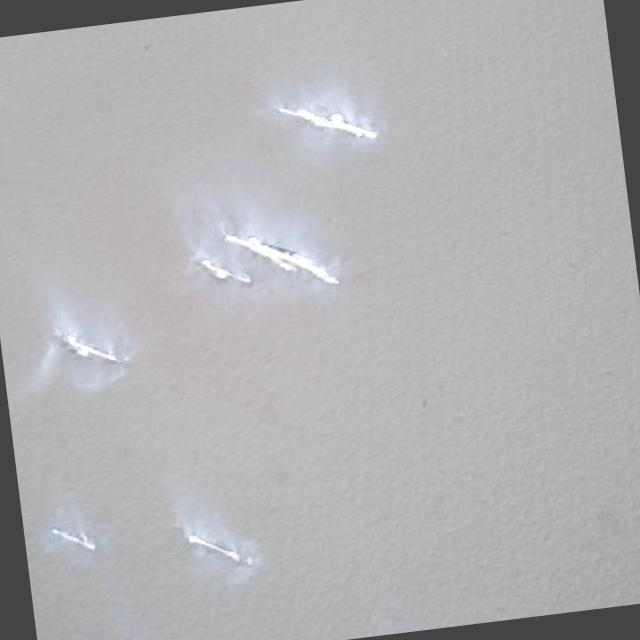crack: (230, 226, 331, 297), (278, 96, 364, 146), (54, 326, 118, 372), (192, 529, 252, 572), (46, 520, 89, 556), (200, 253, 246, 286)
